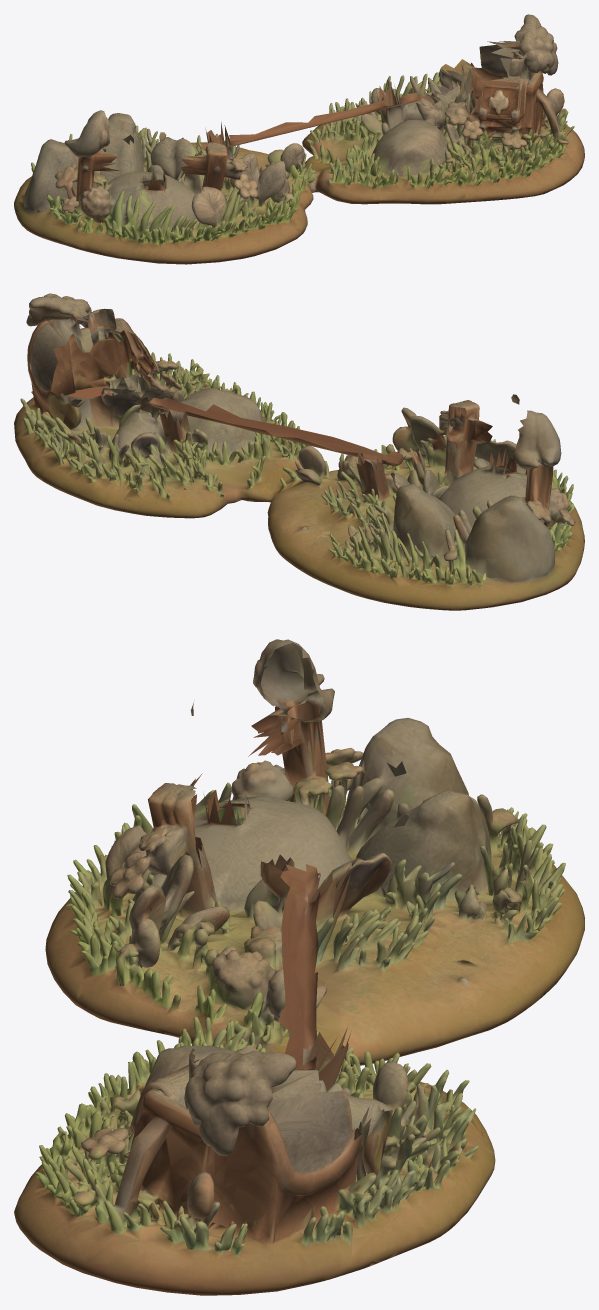
Rendered from camp_sign.glb.
3 views of the same model, one above another, from view 1: azimuth 30°, elevation 25°; view 2: azimuth 150°, elevation 25°; view 3: azimuth 270°, elevation 25° (orthographic). The views are drawn at different scales.
Parts seen in each view (by area): view 1: Camp_Sign_Body; view 2: Camp_Sign_Body; view 3: Camp_Sign_Body.
Boxes of the visible parts, x1,y1,x2,y2 form: Camp_Sign_Body: (14,14,584,264); Camp_Sign_Body: (14,293,584,610); Camp_Sign_Body: (14,639,584,1295).
Size of the model in its own units: 1.9 by 0.437 by 0.9706.
1 material, 1 textured.
